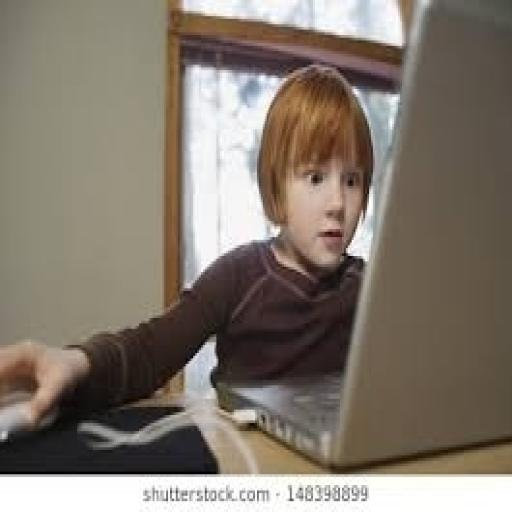using_laptop: (211, 0, 510, 469)
